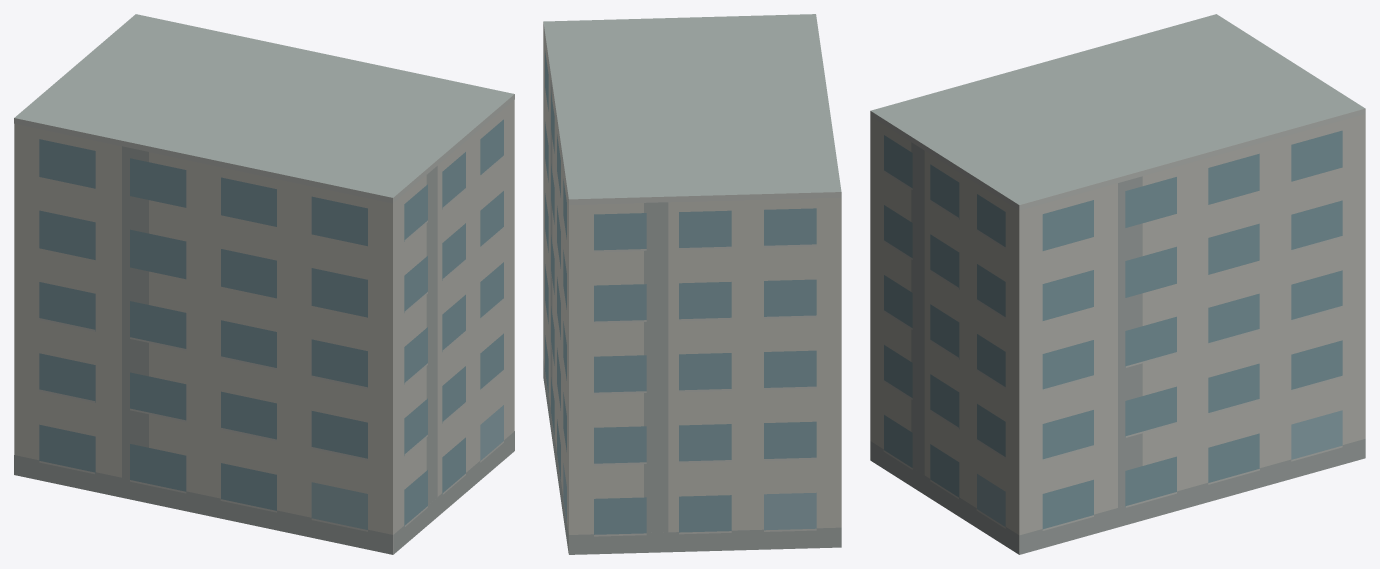
File: survey-upis-32791118.glb
3 views of the same model, side by side, from view 1: azimuth 30°, elevation 25°; view 2: azimuth 150°, elevation 25°; view 3: azimuth 270°, elevation 25° (orthographic). The views are drawn at different scales.
Visible parts, largest first — view 1: survey-upis-32791118.tmp; view 2: survey-upis-32791118.tmp; view 3: survey-upis-32791118.tmp.
Part boxes in pixels (x1,y1,x2,y2): survey-upis-32791118.tmp: [14, 14, 514, 554]; survey-upis-32791118.tmp: [543, 14, 841, 554]; survey-upis-32791118.tmp: [870, 14, 1365, 554].
Size of the model in its own units: 18.36 by 15.65 by 20.09.
